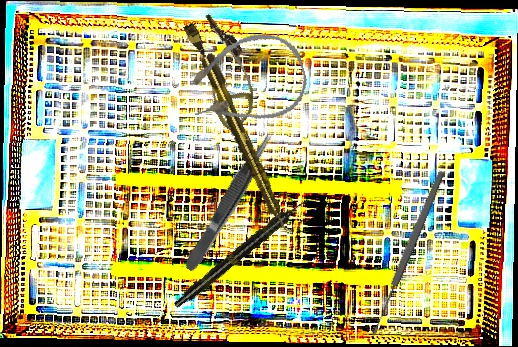Cannula: (178, 24, 315, 138), (170, 7, 275, 133)
Handpiece: (197, 50, 295, 240), (171, 194, 311, 312)
Surgical Spoon: (367, 168, 448, 338)
Tissue Forceps: (179, 129, 279, 274)
